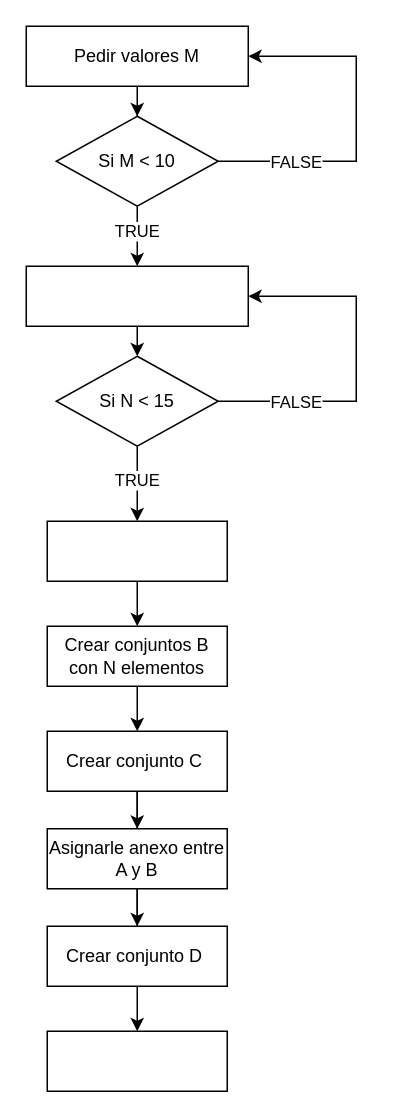
Image size: 395x1118. Some labels were removed from this diagram. Here are the shapes that lost their labels. From the top down, the box of each, then its label:
(25, 265, 248, 326): Pedir valores N
(46, 520, 227, 581): Crear conjuntos A con M elementos
(46, 1030, 227, 1091): Asignarle anexo entre A y B menos los 0
